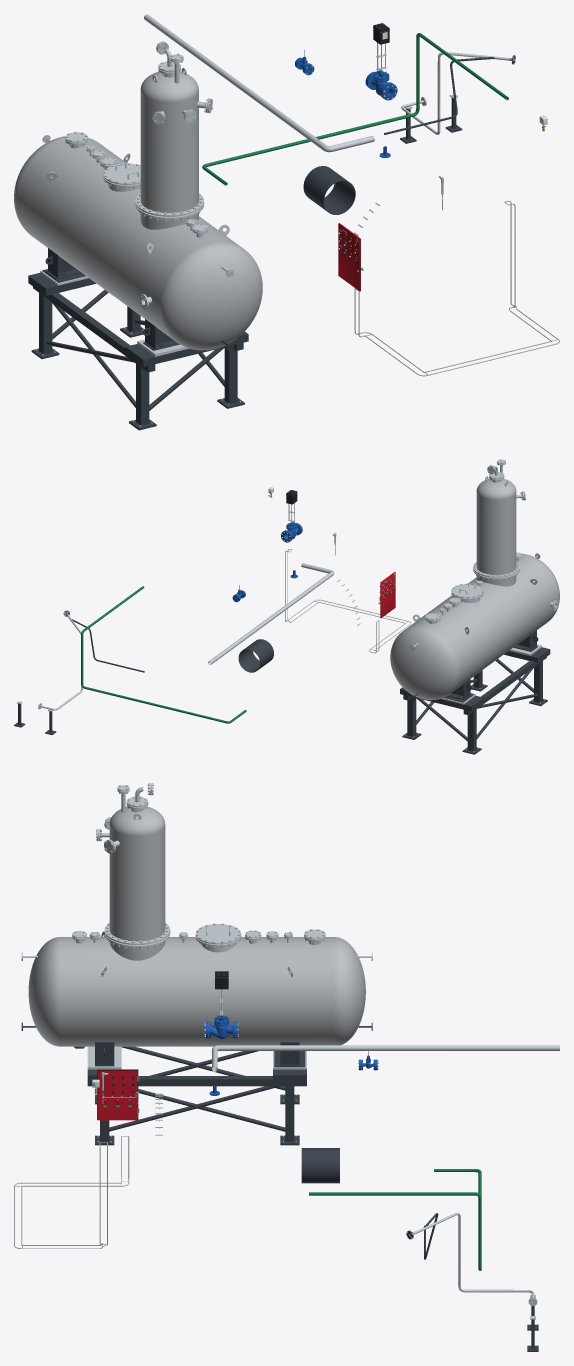
3 renders of one model, top to bottom at view 1: azimuth 30°, elevation 25°; view 2: azimuth 150°, elevation 25°; view 3: azimuth 270°, elevation 25°, orthographic. The views are drawn at different scales.
Visible parts, largest first — view 1: deaerator CAD solid 56, deaerator_support / dark, deaerator CAD solid 257, safety_vent_1 / steel, flue_spacer / dark, to_economizer / green, cables / zinc, cabinet_door / cabinet_door_5.npz, trap_gap_to_bdv / steel, deaerator CAD solid 408, deaerator_support / steel; view 2: deaerator CAD solid 56, deaerator_support / dark, deaerator CAD solid 257, to_economizer / green, safety_vent_1 / steel, flue_spacer / dark, cables / zinc, cabinet_door / cabinet_door_5.npz, deaerator CAD solid 408; view 3: deaerator CAD solid 56, deaerator CAD solid 257, deaerator_support / dark, safety_vent_1 / steel, cabinet_door / cabinet_door_5.npz, flue_spacer / dark, cables / zinc, to_economizer / green, trap_gap_to_bdv / steel, deaerator CAD solid 408.
Part boxes in pixels (x1=…): deaerator CAD solid 56: x1=14, y1=136, x2=262, y2=350; deaerator_support / dark: x1=28, y1=273, x2=248, y2=430; deaerator CAD solid 257: x1=140, y1=71, x2=198, y2=212; safety_vent_1 / steel: x1=144, y1=14, x2=374, y2=152; flue_spacer / dark: x1=303, y1=166, x2=355, y2=214; to_economizer / green: x1=202, y1=33, x2=508, y2=185; cables / zinc: x1=354, y1=200, x2=559, y2=376; cabinet_door / cabinet_door_5.npz: x1=338, y1=223, x2=361, y2=291; trap_gap_to_bdv / steel: x1=401, y1=52, x2=515, y2=134; deaerator CAD solid 408: x1=103, y1=163, x2=140, y2=184; deaerator_support / steel: x1=36, y1=270, x2=240, y2=426; deaerator CAD solid 56: x1=390, y1=553, x2=559, y2=700; deaerator_support / dark: x1=400, y1=647, x2=550, y2=754; deaerator CAD solid 257: x1=476, y1=478, x2=516, y2=575; to_economizer / green: x1=81, y1=586, x2=246, y2=723; safety_vent_1 / steel: x1=208, y1=563, x2=334, y2=664; flue_spacer / dark: x1=238, y1=639, x2=273, y2=672; cables / zinc: x1=285, y1=549, x2=411, y2=653; cabinet_door / cabinet_door_5.npz: x1=379, y1=572, x2=395, y2=618; deaerator CAD solid 408: x1=451, y1=584, x2=483, y2=598; deaerator CAD solid 56: x1=28, y1=937, x2=365, y2=1046; deaerator CAD solid 257: x1=109, y1=806, x2=165, y2=941; deaerator_support / dark: x1=87, y1=1046, x2=306, y2=1145; safety_vent_1 / steel: x1=212, y1=1045, x2=559, y2=1071; cabinet_door / cabinet_door_5.npz: x1=97, y1=1069, x2=139, y2=1120; flue_spacer / dark: x1=301, y1=1148, x2=339, y2=1183; cables / zinc: x1=14, y1=1136, x2=129, y2=1248; to_economizer / green: x1=309, y1=1169, x2=481, y2=1270; trap_gap_to_bdv / steel: x1=406, y1=1212, x2=537, y2=1305; deaerator CAD solid 408: x1=195, y1=924, x2=241, y2=944.
Bounding box in the file's own units: 7.89 × 4.82 × 7.07.
